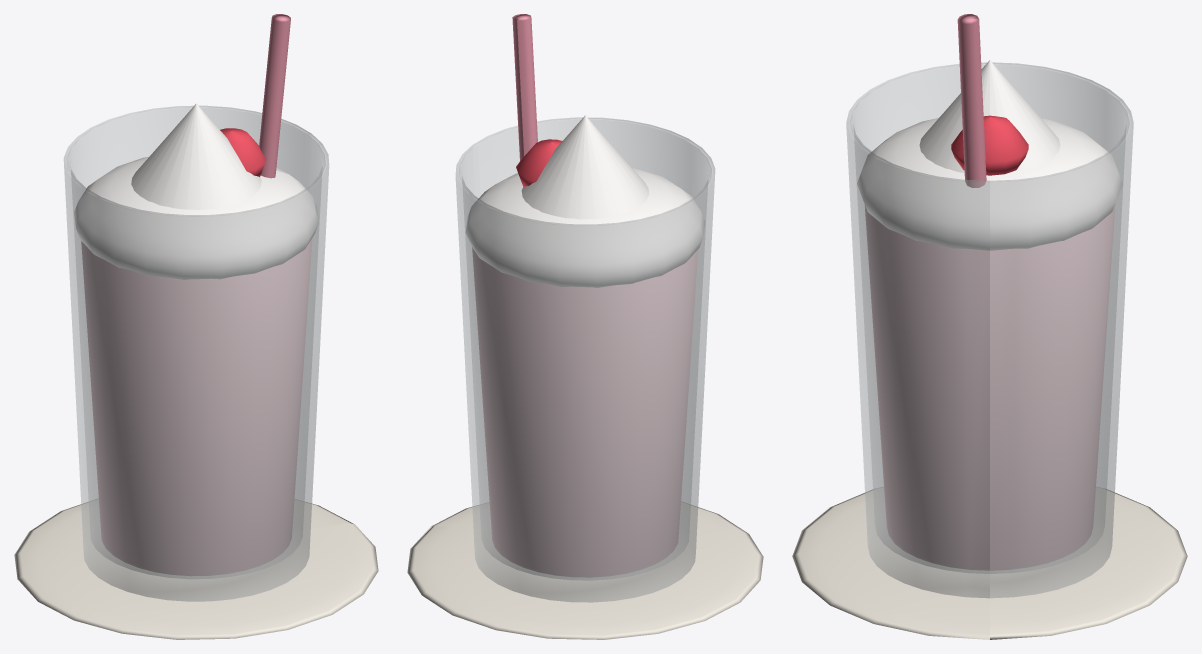
The model's file is strawberry-shake.glb.
The picture shows the model from 3 angles, left to right: view 1: azimuth 30°, elevation 25°; view 2: azimuth 150°, elevation 25°; view 3: azimuth 270°, elevation 25°; orthographic projection. The views are drawn at different scales.
Visible parts, largest first — view 1: strawberry-shake; view 2: strawberry-shake; view 3: strawberry-shake.
Part boxes in pixels (bbox=[...]): strawberry-shake: bbox=[14, 14, 378, 639]; strawberry-shake: bbox=[407, 14, 763, 639]; strawberry-shake: bbox=[792, 14, 1187, 639].
Size of the model in its own units: 0.11 by 0.1803 by 0.11.
